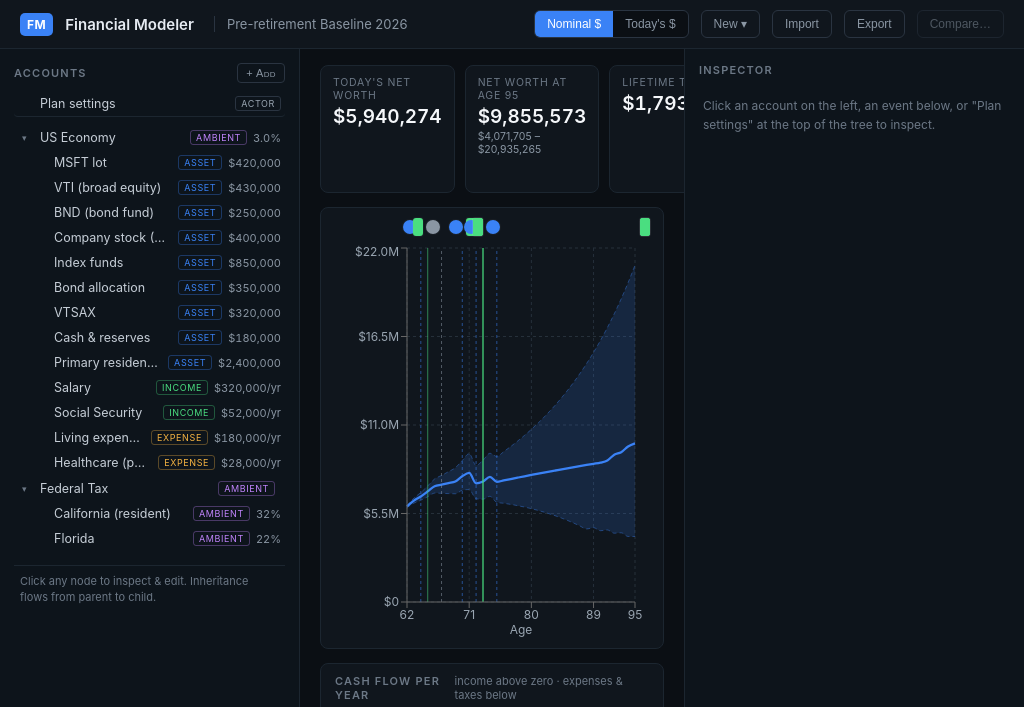
Test case: UC7 — add an asset account › + Add → Asset creates an asset with the seeded defaults
Click the button with aria-label "add account".
click(261, 73)  # box [237, 63, 285, 83]
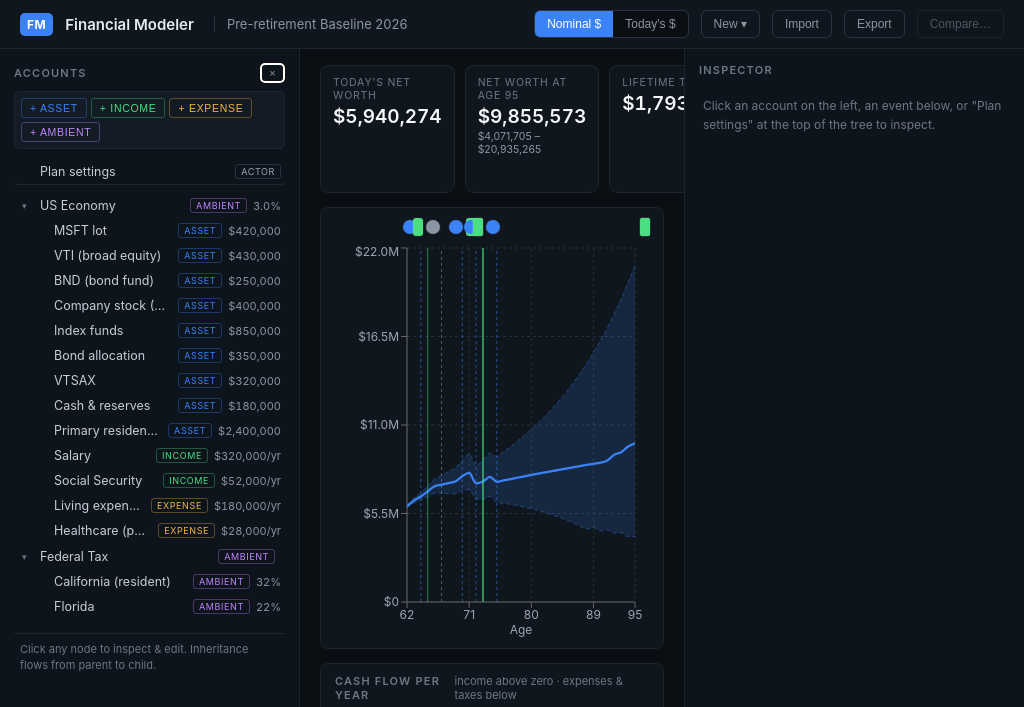
Click the button "+ asset".
click(54, 108)  # box [21, 98, 87, 118]
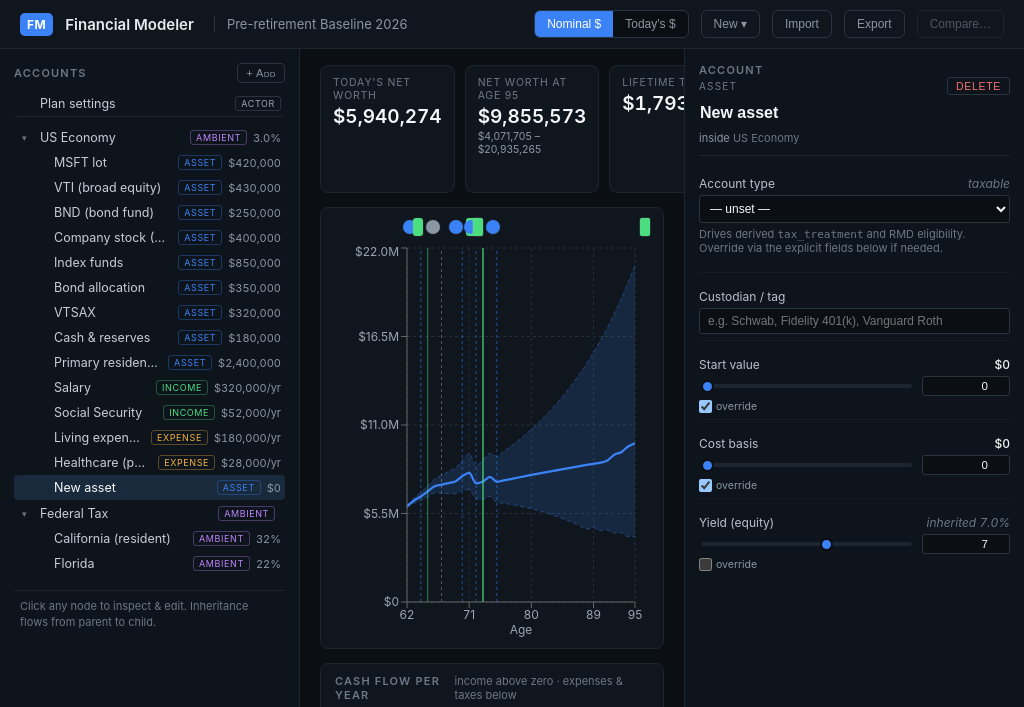
Result: the text "taxable" is shown at [968, 176, 1010, 191]
